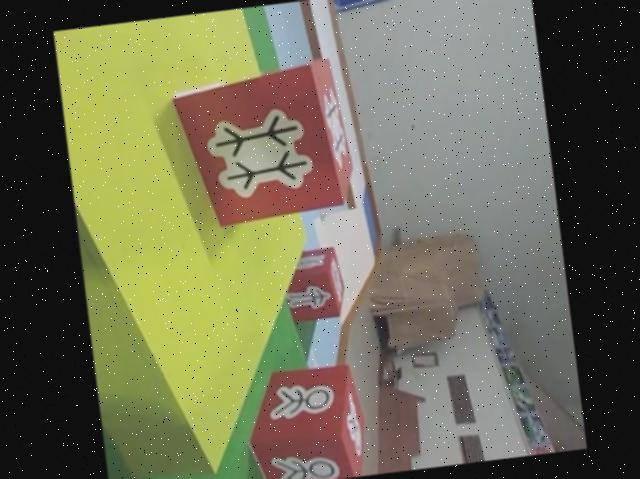R2 Fake: (277, 244, 351, 326)
R2 Real: (165, 54, 361, 233), (239, 358, 374, 479)
